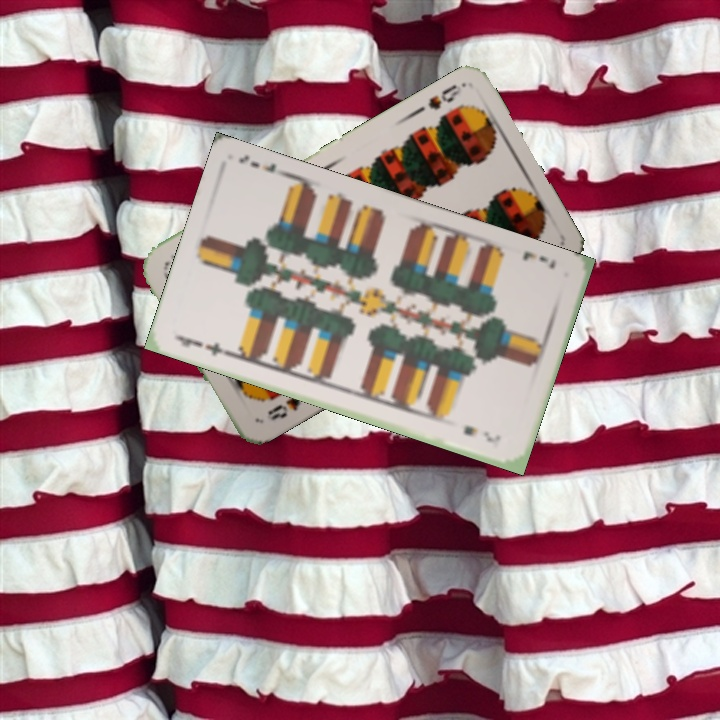E7: (173, 331, 232, 359), (518, 247, 559, 271)
S8: (424, 80, 465, 113), (263, 393, 303, 423)
